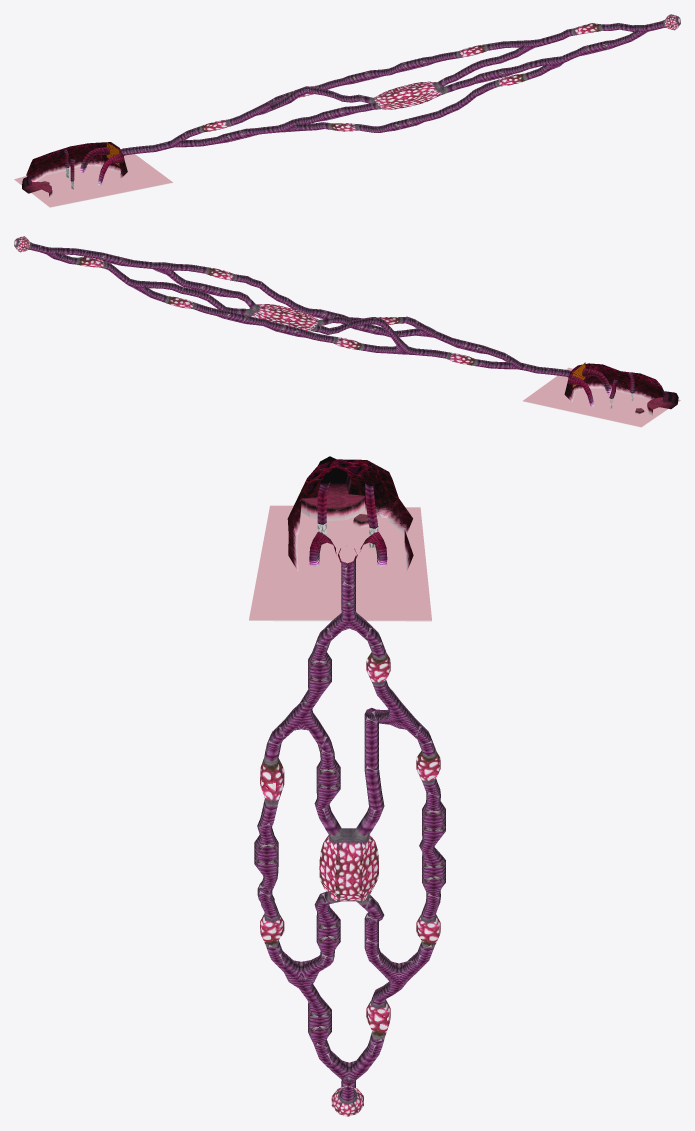
The model's file is AlienCavePyxis.glb.
The picture shows the model from 3 angles, top to bottom: view 1: azimuth 30°, elevation 25°; view 2: azimuth 150°, elevation 25°; view 3: azimuth 270°, elevation 25°; orthographic projection. The views are drawn at different scales.
Parts seen in each view (by area): view 1: AlienCavePyxis_29, AlienCavePyxis_38, AlienCavePyxis_42, AlienCavePyxis_40, AlienCavePyxis_41, AlienCavePyxis_19, AlienCavePyxis_14, AlienCavePyxis_43; view 2: AlienCavePyxis_29, AlienCavePyxis_38, AlienCavePyxis_42, AlienCavePyxis_40, AlienCavePyxis_41, AlienCavePyxis_43, AlienCavePyxis_19, AlienCavePyxis_20; view 3: AlienCavePyxis_29, AlienCavePyxis_38, AlienCavePyxis_42, AlienCavePyxis_40, AlienCavePyxis_41, AlienCavePyxis_Alpha_37, AlienCavePyxis_19, AlienCavePyxis_43.
Boxes of the visible parts, x1,y1,x2,y2 form: AlienCavePyxis_29: (64, 21, 662, 180); AlienCavePyxis_38: (14, 154, 172, 207); AlienCavePyxis_42: (207, 14, 677, 131); AlienCavePyxis_40: (194, 20, 666, 134); AlienCavePyxis_41: (219, 15, 679, 130); AlienCavePyxis_19: (26, 154, 102, 181); AlienCavePyxis_14: (26, 146, 100, 174); AlienCavePyxis_43: (201, 23, 602, 132); AlienCavePyxis_29: (31, 243, 634, 402); AlienCavePyxis_38: (523, 367, 680, 427); AlienCavePyxis_42: (17, 236, 469, 364); AlienCavePyxis_40: (28, 242, 483, 366); AlienCavePyxis_41: (15, 237, 458, 361); AlienCavePyxis_43: (77, 256, 475, 365); AlienCavePyxis_19: (607, 378, 645, 397); AlienCavePyxis_20: (587, 376, 663, 399); AlienCavePyxis_29: (254, 482, 445, 1097); AlienCavePyxis_38: (249, 505, 431, 620); AlienCavePyxis_42: (260, 660, 440, 1116); AlienCavePyxis_40: (263, 646, 437, 1102); AlienCavePyxis_41: (260, 672, 440, 1110); AlienCavePyxis_Alpha_37: (257, 566, 440, 1064); AlienCavePyxis_19: (287, 500, 413, 571); AlienCavePyxis_43: (260, 649, 440, 1037).
Bounding box in the file's own units: 1392 × 78.63 × 181.
Materials: 49 (49 with a texture image).
